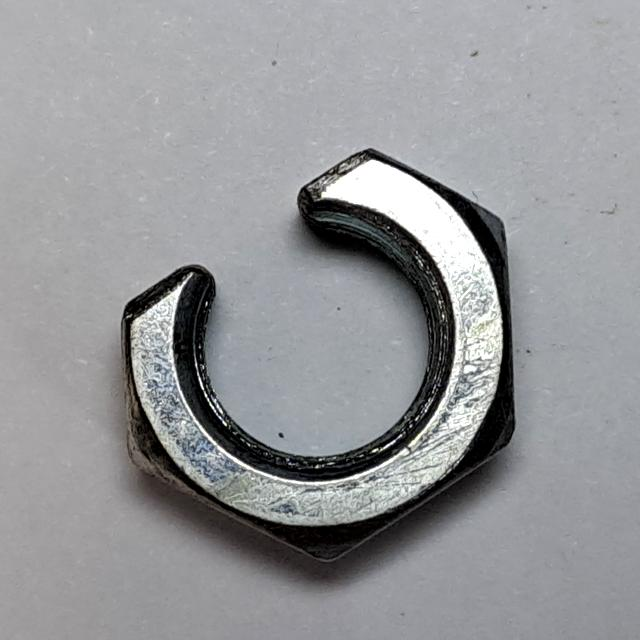Fracture: (100, 130, 541, 584)
